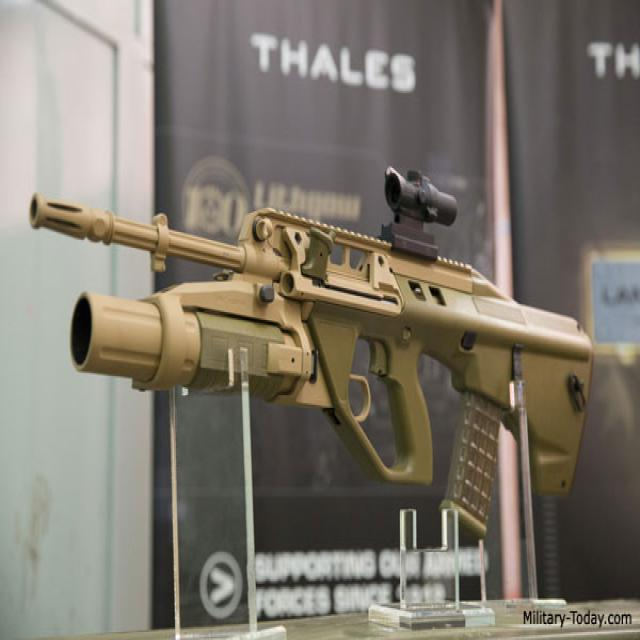Rifle: (29, 168, 593, 523)
